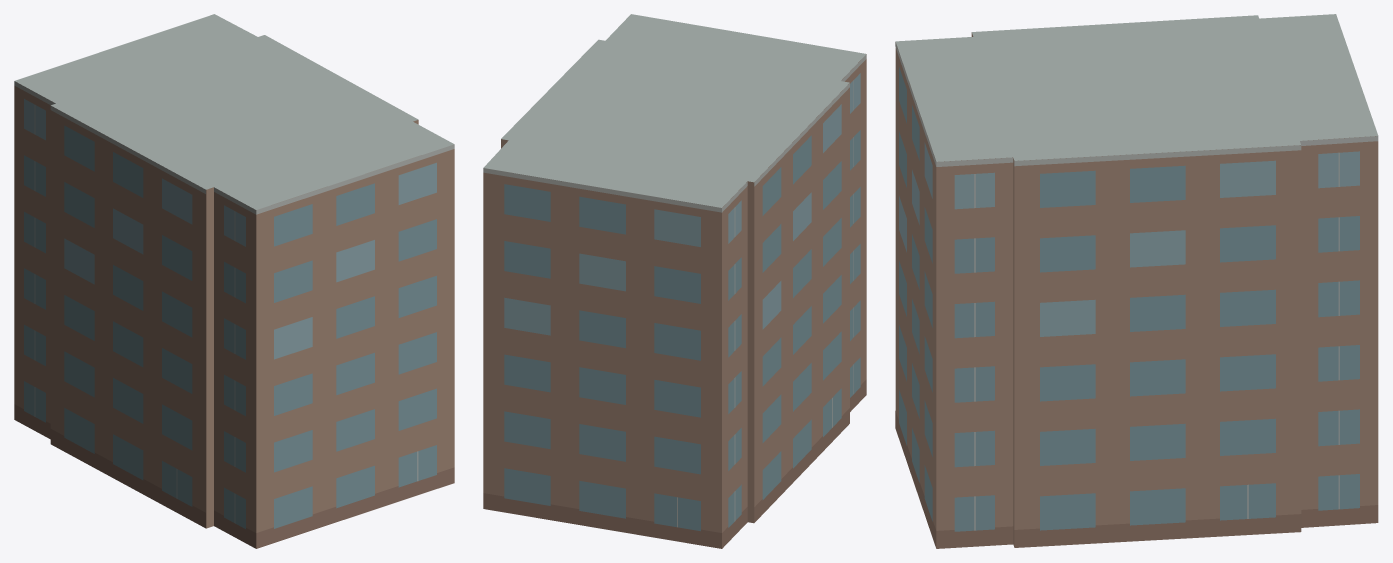
Rendered from survey-upis-32743173.glb.
The picture shows the model from 3 angles, left to right: view 1: azimuth 30°, elevation 25°; view 2: azimuth 150°, elevation 25°; view 3: azimuth 270°, elevation 25°; orthographic projection. The views are drawn at different scales.
Visible parts, largest first — view 1: survey-upis-32743173.tmp; view 2: survey-upis-32743173.tmp; view 3: survey-upis-32743173.tmp.
Part boxes in pixels (<box>): survey-upis-32743173.tmp: <box>14,14,454,548</box>; survey-upis-32743173.tmp: <box>483,14,866,548</box>; survey-upis-32743173.tmp: <box>895,14,1378,548</box>.
Size of the model in its own units: 14.76 by 18 by 20.37.
